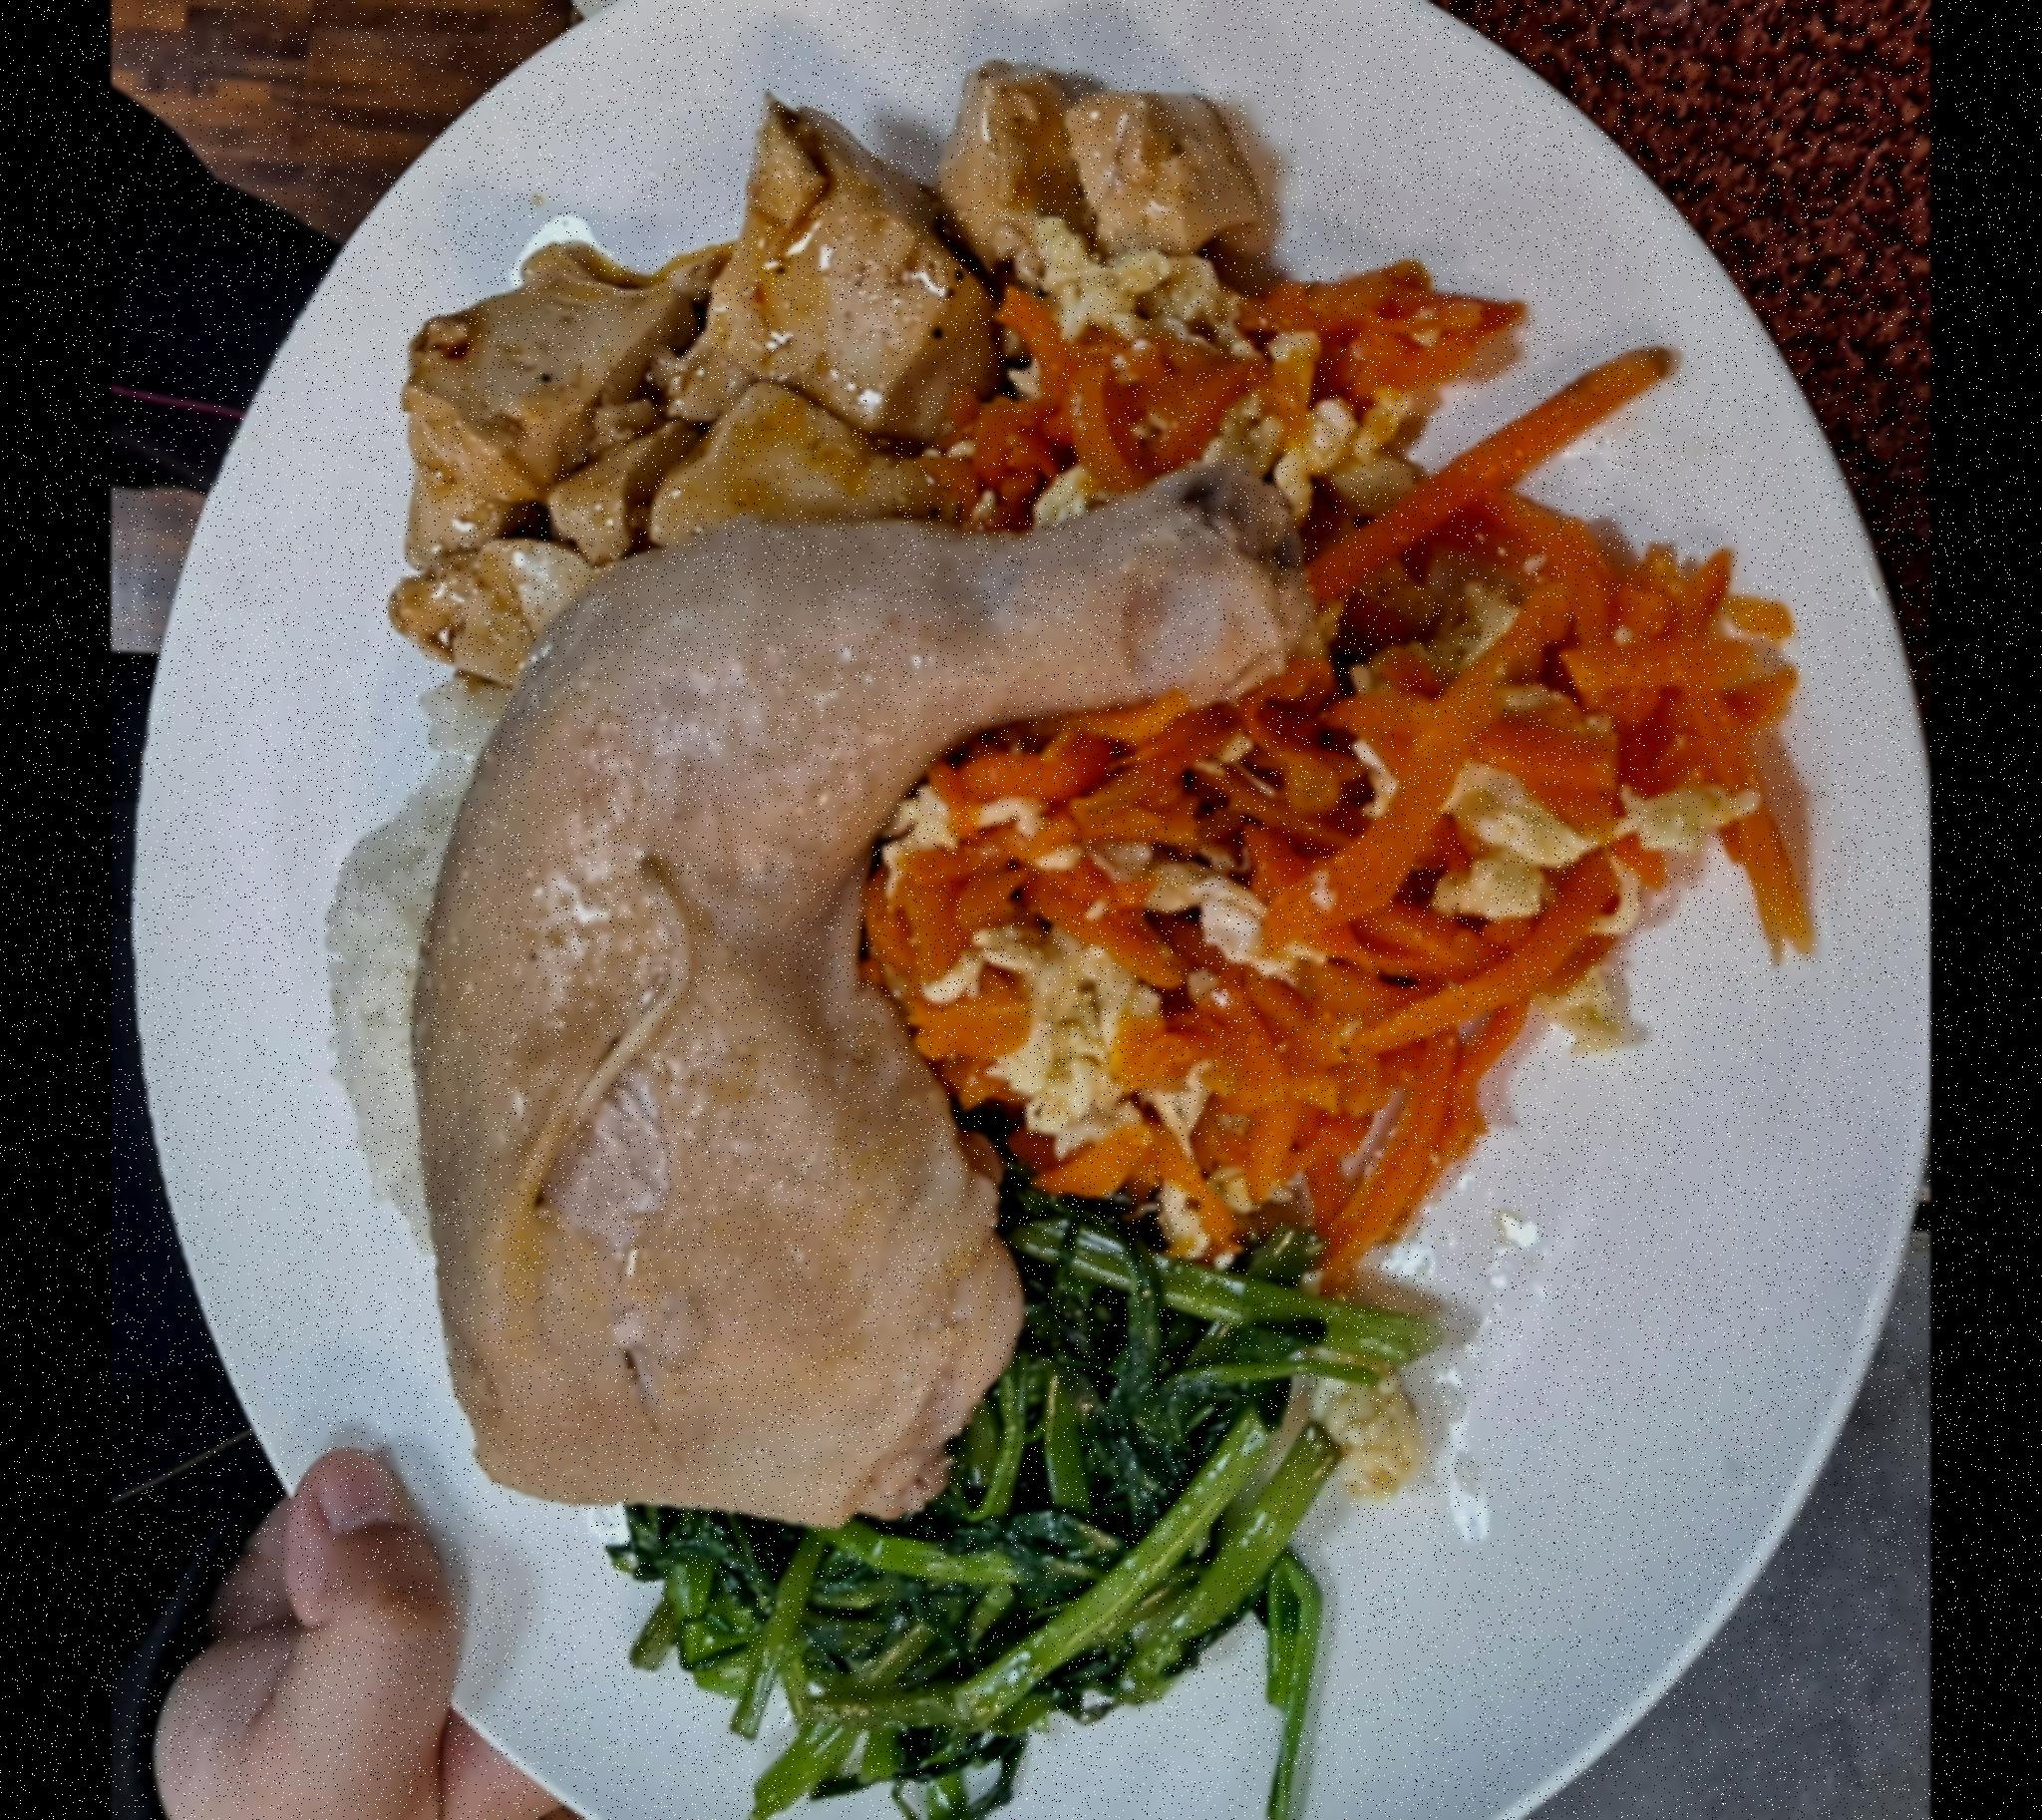big fried chicken leg: (130, 0, 1930, 1820)
big herbal chicken leg: (326, 747, 485, 1255)
braised fish fillet: (872, 259, 1815, 1215), (376, 62, 1272, 675), (615, 1199, 1377, 1820)
brown rice: (425, 465, 1307, 1527)
